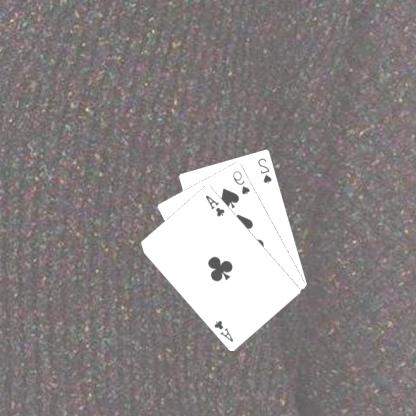2S: (257, 155, 275, 185)
9S: (232, 168, 254, 196)
AC: (204, 192, 228, 218), (213, 317, 237, 343)
